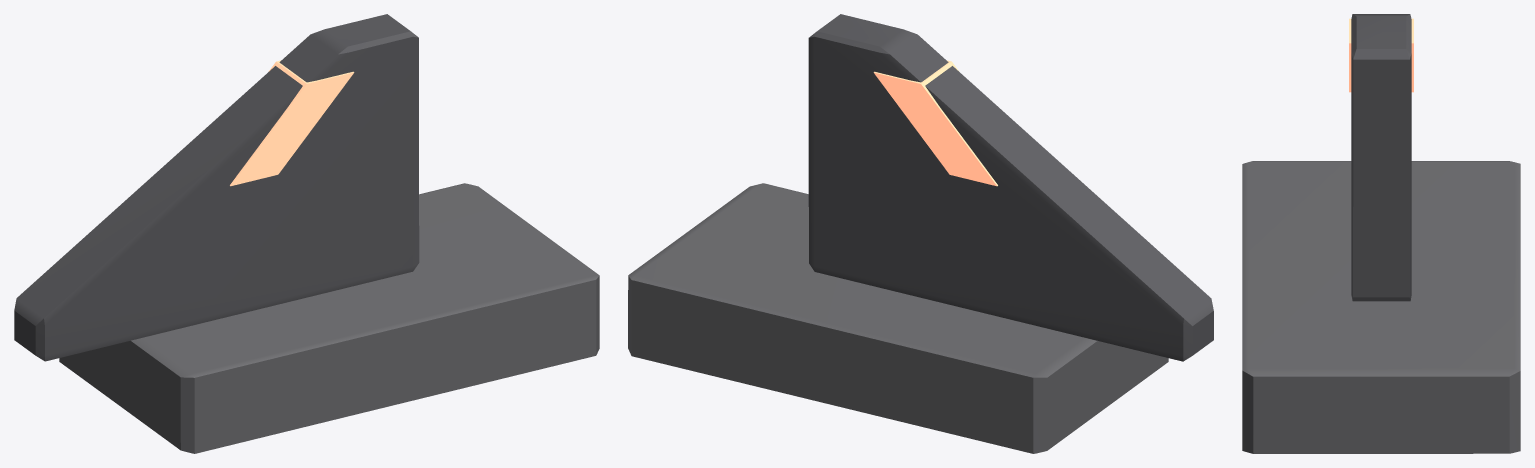
The model's file is hi_revolver_punto.glb.
The picture shows the model from 3 angles, left to right: view 1: azimuth 30°, elevation 25°; view 2: azimuth 150°, elevation 25°; view 3: azimuth 270°, elevation 25°; orthographic projection. The views are drawn at different scales.
Visible parts, largest first — view 1: cabeza, alzador, cabeza_inserto; view 2: cabeza, alzador, cabeza_inserto; view 3: alzador, cabeza, cabeza_inserto.
Boxes of the visible parts, x1,y1,x2,y2 form: cabeza: (14,14,419,361); alzador: (59,183,599,453); cabeza_inserto: (230,60,354,186); cabeza: (808,14,1213,361); alzador: (628,183,1168,453); cabeza_inserto: (873,60,997,186); alzador: (1242,161,1520,453); cabeza: (1351,14,1411,301); cabeza_inserto: (1349,18,1413,92).
Bounding box in the file's own units: 0.027 × 0.016 × 0.012.
